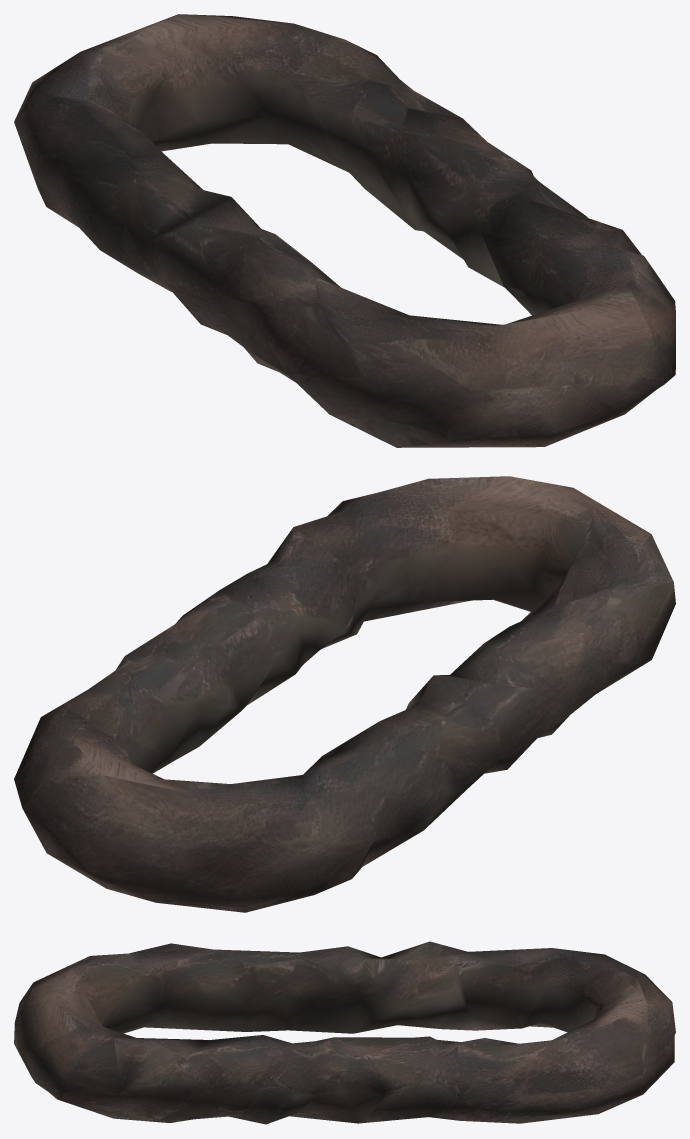
Rendered from kf-chain-link.glb.
The picture shows the model from 3 angles, top to bottom: view 1: azimuth 30°, elevation 25°; view 2: azimuth 150°, elevation 25°; view 3: azimuth 270°, elevation 25°; orthographic projection. The views are drawn at different scales.
Parts seen in each view (by area): view 1: Supplied kf-chain-link; view 2: Supplied kf-chain-link; view 3: Supplied kf-chain-link.
Boxes of the visible parts, x1,y1,x2,y2 form: Supplied kf-chain-link: (14, 14, 675, 447); Supplied kf-chain-link: (14, 476, 675, 912); Supplied kf-chain-link: (14, 941, 675, 1124).
Size of the model in its own units: 0.4521 by 0.1471 by 1.
1 material, 1 textured.
